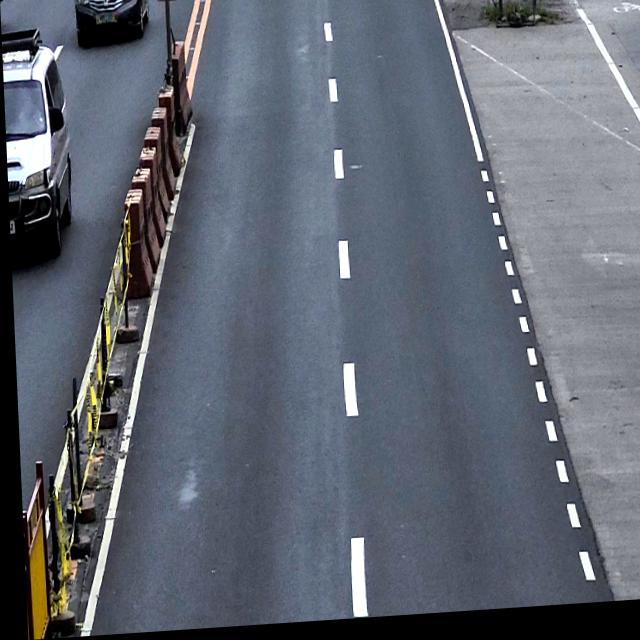Car: (1, 25, 73, 258), (74, 0, 150, 46)
License-Plate: (94, 12, 119, 28)
